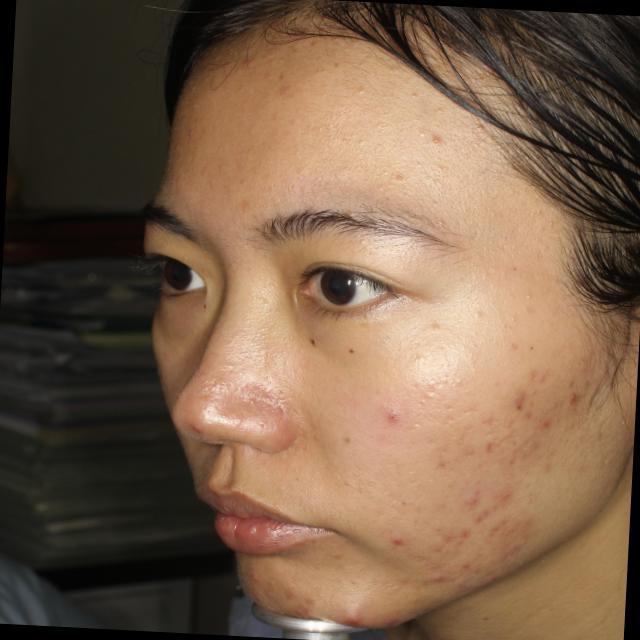blackhead: (403, 502, 405, 505), (531, 346, 533, 349), (296, 478, 298, 481)
nodule: (348, 616, 360, 626), (390, 412, 400, 422), (434, 574, 444, 582), (393, 538, 402, 546)
